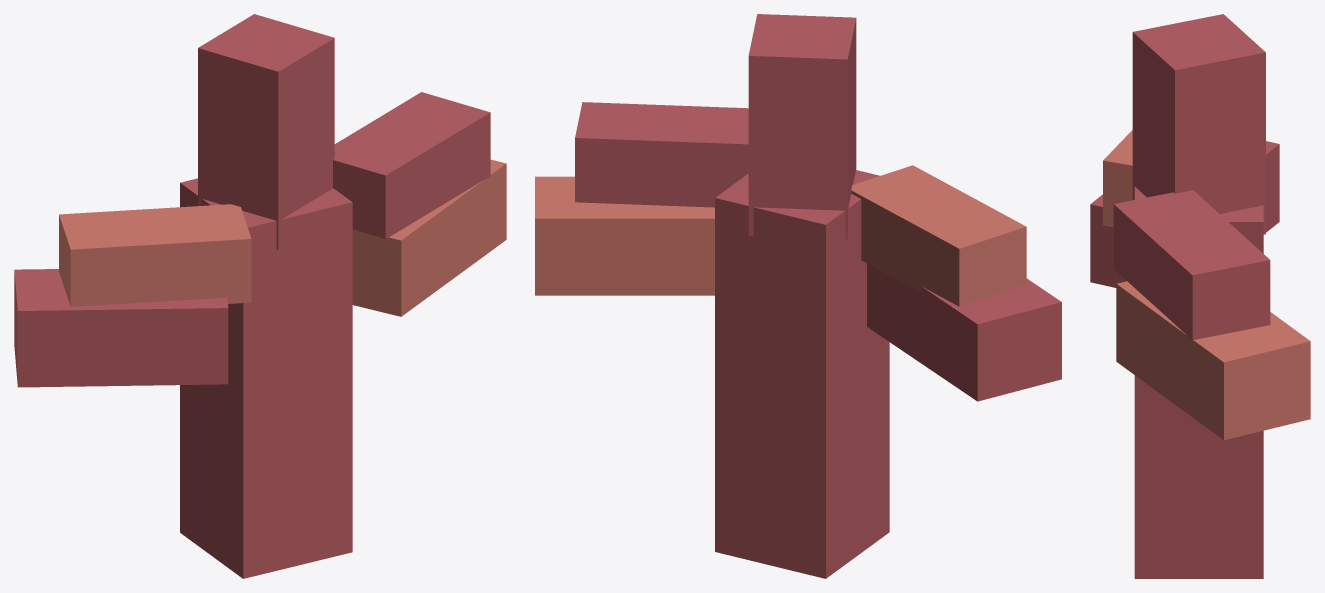
The model's file is coral.glb.
3 renders of one model, left to right at view 1: azimuth 30°, elevation 25°; view 2: azimuth 150°, elevation 25°; view 3: azimuth 270°, elevation 25°, orthographic. The views are drawn at different scales.
Visible parts, largest first — view 1: Coral_Main; view 2: Coral_Main; view 3: Coral_Main.
Boxes of the visible parts, <box> form: Coral_Main: <box>14,14,506,578</box>; Coral_Main: <box>535,14,1061,578</box>; Coral_Main: <box>1090,14,1310,578</box>.
Bounding box in the file's own units: 0.8302 × 0.785 × 0.3078.
